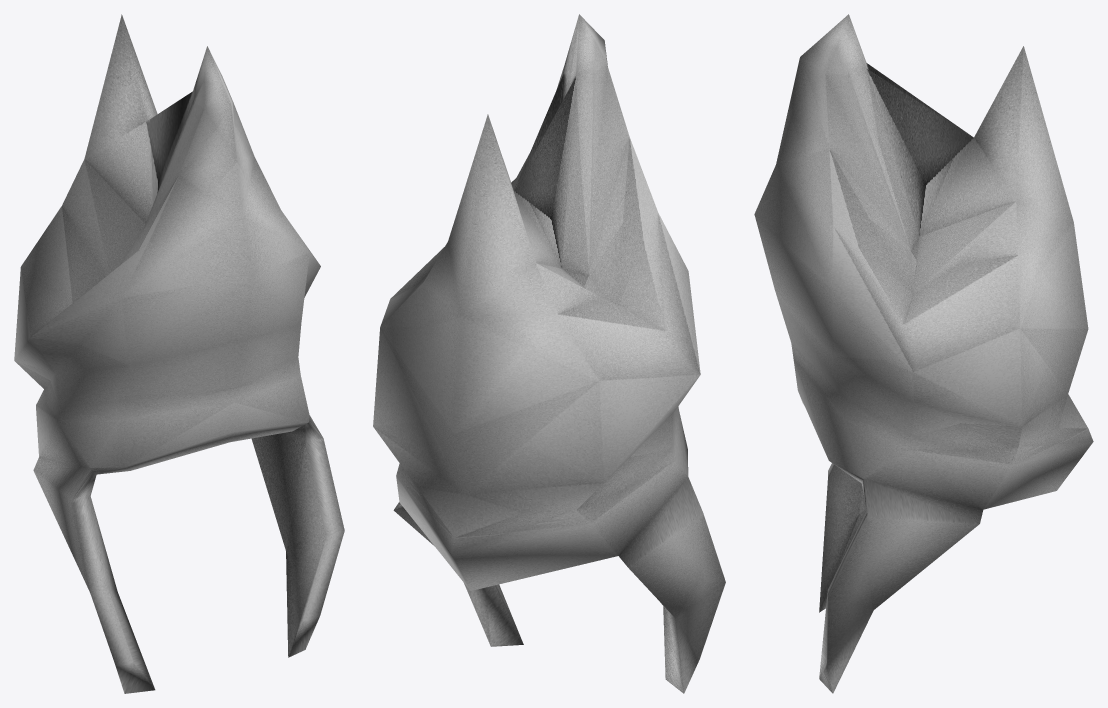
File: papstHat.dae
The picture shows the model from 3 angles, left to right: view 1: azimuth 30°, elevation 25°; view 2: azimuth 150°, elevation 25°; view 3: azimuth 270°, elevation 25°; orthographic projection. The views are drawn at different scales.
Visible parts, largest first — view 1: penguin_head_001__004; view 2: penguin_head_001__004; view 3: penguin_head_001__004.
Boxes of the visible parts, left/top/right/bottom form: penguin_head_001__004: left=14, top=14, right=344, bottom=693; penguin_head_001__004: left=373, top=14, right=725, bottom=693; penguin_head_001__004: left=754, top=14, right=1093, bottom=693.
Bounding box in the file's own units: 11.6 × 11.46 × 23.66.
1 material, 1 textured.
